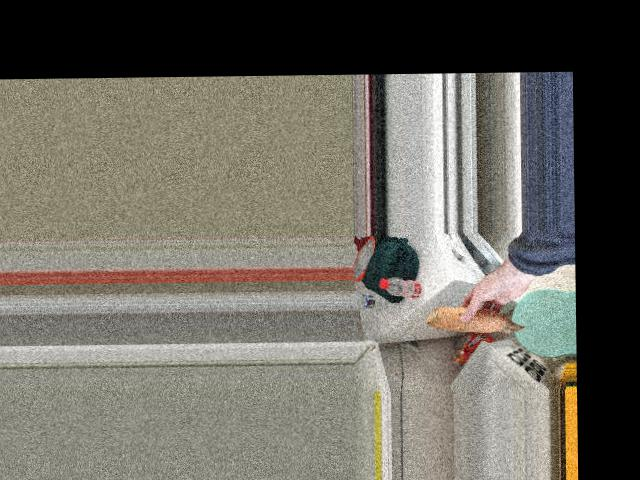sweet_potato: (435, 302, 518, 332)
